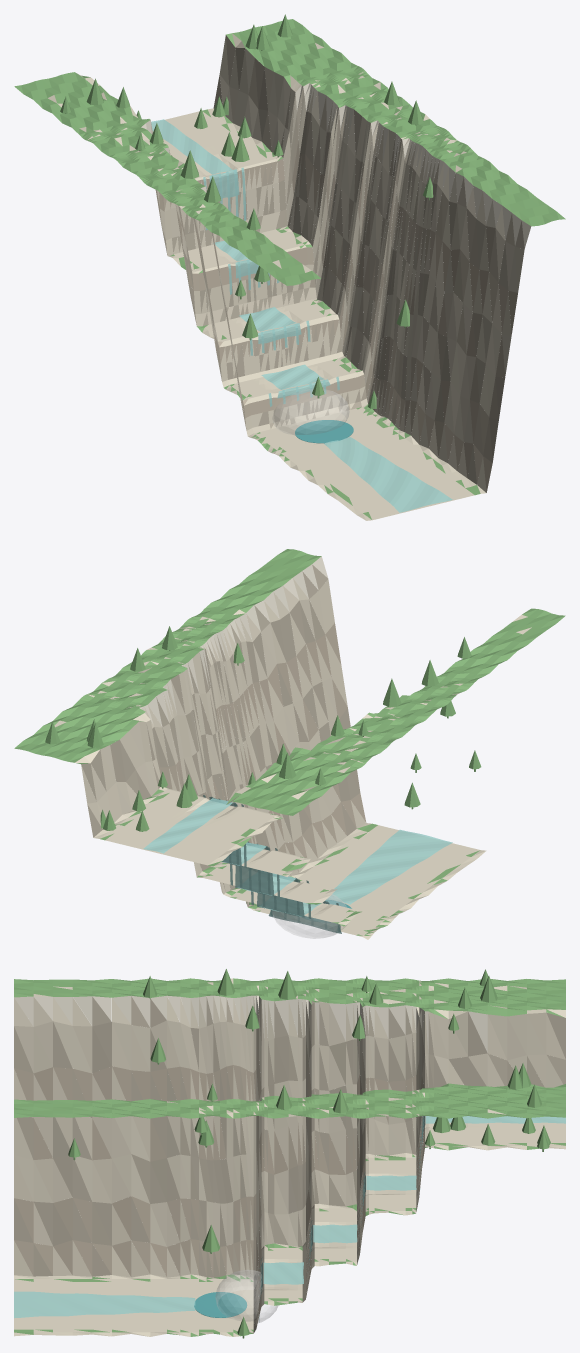
The model's file is kinchkha-lod1.glb.
The picture shows the model from 3 angles, top to bottom: view 1: azimuth 30°, elevation 25°; view 2: azimuth 150°, elevation 25°; view 3: azimuth 270°, elevation 25°; orthographic projection.
Visible parts, largest first — view 1: kinchkha_rock, kinchkha_veg, kinchkha_rockDark, kinchkha_soft, kinchkha_water, kinchkha_cap, kinchkha_mist, kinchkha_waterPool; view 2: kinchkha_rock, kinchkha_veg, kinchkha_rockDark, kinchkha_water, kinchkha_soft, kinchkha_cap, kinchkha_mist; view 3: kinchkha_rock, kinchkha_rockDark, kinchkha_veg, kinchkha_soft, kinchkha_water, kinchkha_cap, kinchkha_mist, kinchkha_waterPool.
Part boxes in pixels (x1=…): kinchkha_rock: x1=48, y1=33, x2=524, y2=520; kinchkha_veg: x1=14, y1=14, x2=565, y2=519; kinchkha_rockDark: x1=156, y1=35, x2=524, y2=484; kinchkha_soft: x1=155, y1=141, x2=517, y2=492; kinchkha_water: x1=151, y1=119, x2=452, y2=512; kinchkha_cap: x1=141, y1=83, x2=531, y2=248; kinchkha_mist: x1=272, y1=389, x2=349, y2=434; kinchkha_waterPool: x1=295, y1=420, x2=353, y2=443; kinchkha_rock: x1=54, y1=578, x2=531, y2=939; kinchkha_veg: x1=14, y1=549, x2=565, y2=935; kinchkha_rockDark: x1=81, y1=564, x2=360, y2=906; kinchkha_water: x1=143, y1=795, x2=452, y2=933; kinchkha_soft: x1=159, y1=623, x2=366, y2=904; kinchkha_cap: x1=140, y1=556, x2=328, y2=726; kinchkha_mist: x1=272, y1=894, x2=346, y2=938; kinchkha_rock: x1=14, y1=978, x2=565, y2=1336; kinchkha_rockDark: x1=14, y1=996, x2=565, y2=1331; kinchkha_veg: x1=14, y1=969, x2=565, y2=1338; kinchkha_soft: x1=14, y1=1058, x2=424, y2=1316; kinchkha_water: x1=14, y1=1116, x2=565, y2=1322; kinchkha_cap: x1=14, y1=995, x2=487, y2=1100; kinchkha_mist: x1=215, y1=1270, x2=278, y2=1322; kinchkha_waterPool: x1=194, y1=1292, x2=247, y2=1317.
Bounding box in the file's own units: 20.87 × 21.13 × 35.4.
